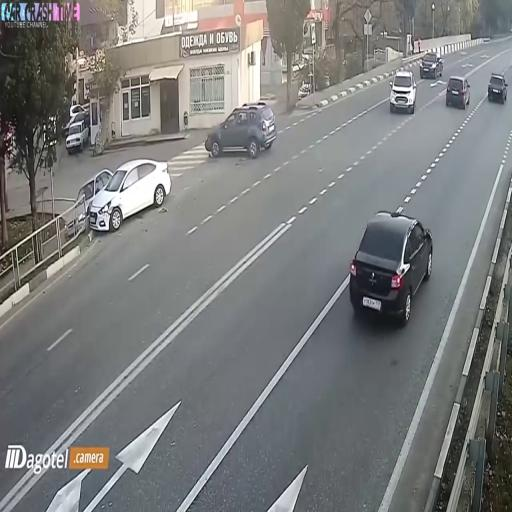小汽车: (343, 210, 437, 320), (206, 102, 278, 157), (386, 71, 418, 119), (444, 72, 473, 109), (64, 114, 88, 156), (486, 70, 510, 110), (418, 48, 444, 82)
小汽车撞小汽车: (62, 160, 170, 233)
